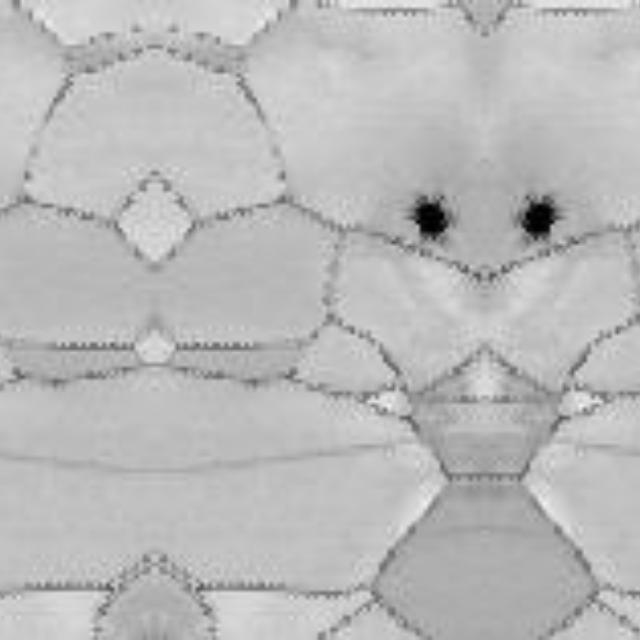good_void: (402, 191, 455, 246), (513, 191, 566, 246)
